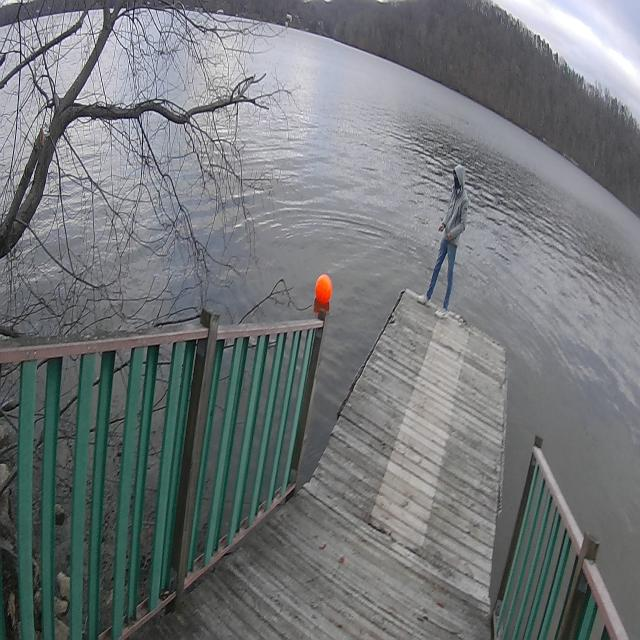Buoy: (310, 267, 337, 312)
